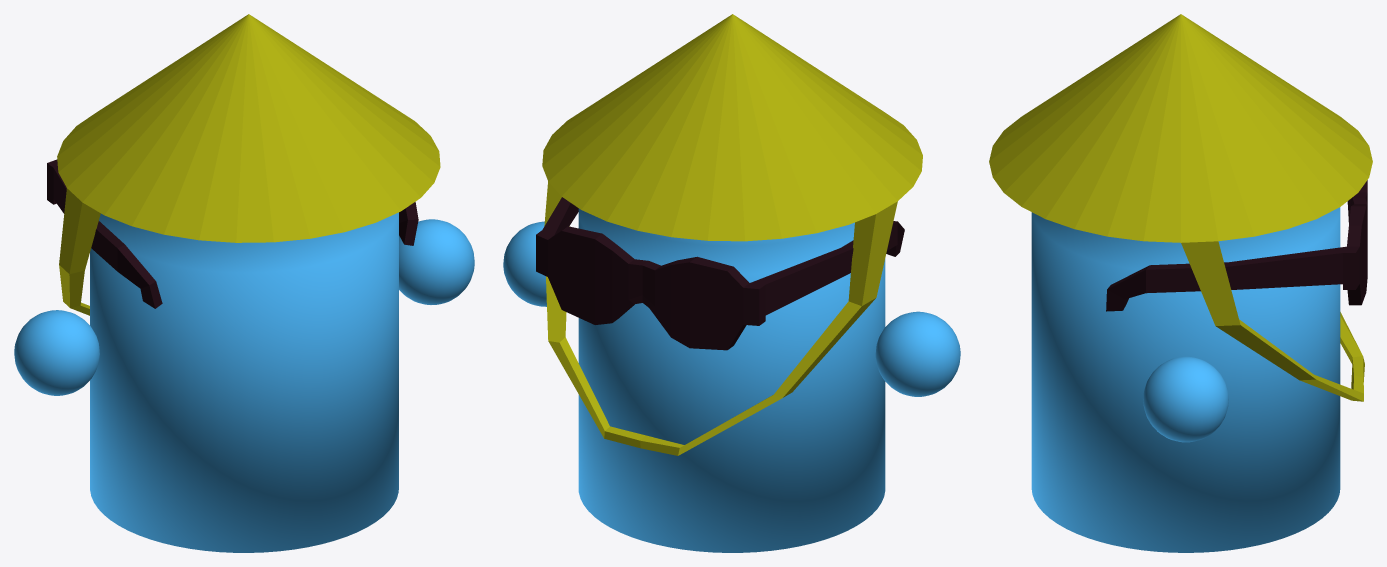
Rendered from agent.fbx.
3 views of the same model, side by side, from view 1: azimuth 30°, elevation 25°; view 2: azimuth 150°, elevation 25°; view 3: azimuth 270°, elevation 25° (orthographic).
Parts seen in each view (by area): view 1: Body, Hat, RightHand, LeftHand, Sunglasses; view 2: Body, Hat, Sunglasses, RightHand, LeftHand; view 3: Body, Hat, Sunglasses, LeftHand.
Boxes of the visible parts, box(x1,y1,x2,y2) form: Body: box(90, 212, 398, 552); Hat: box(57, 14, 440, 315); RightHand: box(14, 310, 99, 395); LeftHand: box(399, 219, 474, 304); Sunglasses: box(47, 159, 418, 308); Body: box(578, 208, 885, 552); Hat: box(542, 14, 922, 455); Sunglasses: box(536, 197, 904, 350); RightHand: box(875, 311, 960, 396); LeftHand: box(503, 221, 546, 306); Body: box(1031, 207, 1340, 552); Hat: box(989, 14, 1372, 401); Sunglasses: box(1106, 180, 1367, 311); LeftHand: box(1143, 356, 1228, 442).
Size of the model in its own units: 3.36 by 3.39 by 2.49.
